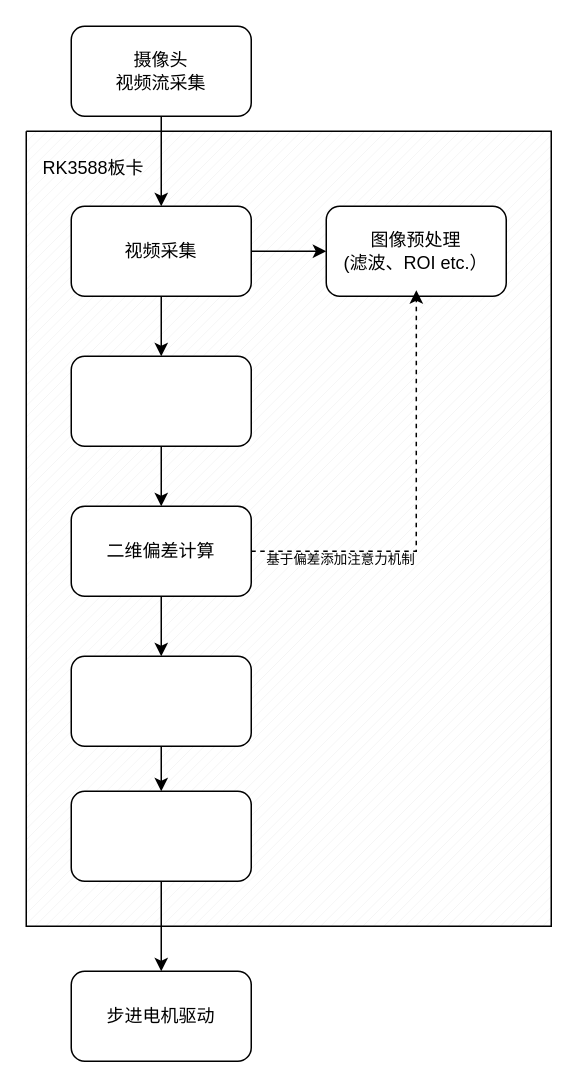
This 578x1088 diagram has some shape labels left out. The shapes that lost their labels are listed below. From the top down, each one's centre as x and y in pixels, then its label:
At (160,400): "目标识别".
At (160,700): "三维空间转换、 角度偏差转换".
At (160,835): "PID控制器".
